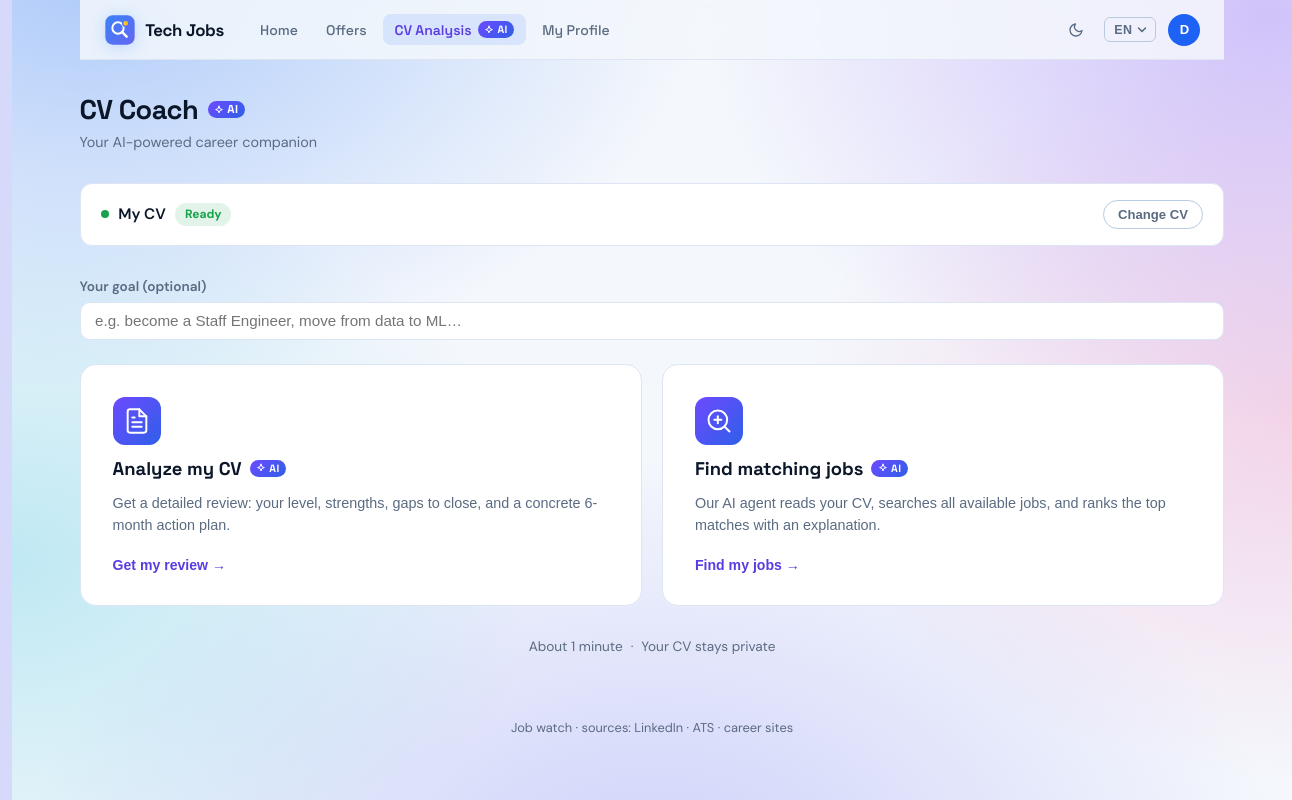
Test: CoachPage (integration) › signed in with a CV › says so when nothing matches, and lets you search again
The image size is (1292, 800).
Check: the text "My CV" is shown, box [118,204,166,224]
Click the button "Find matching jobs" at (719, 421), box [662,364,1224,606]
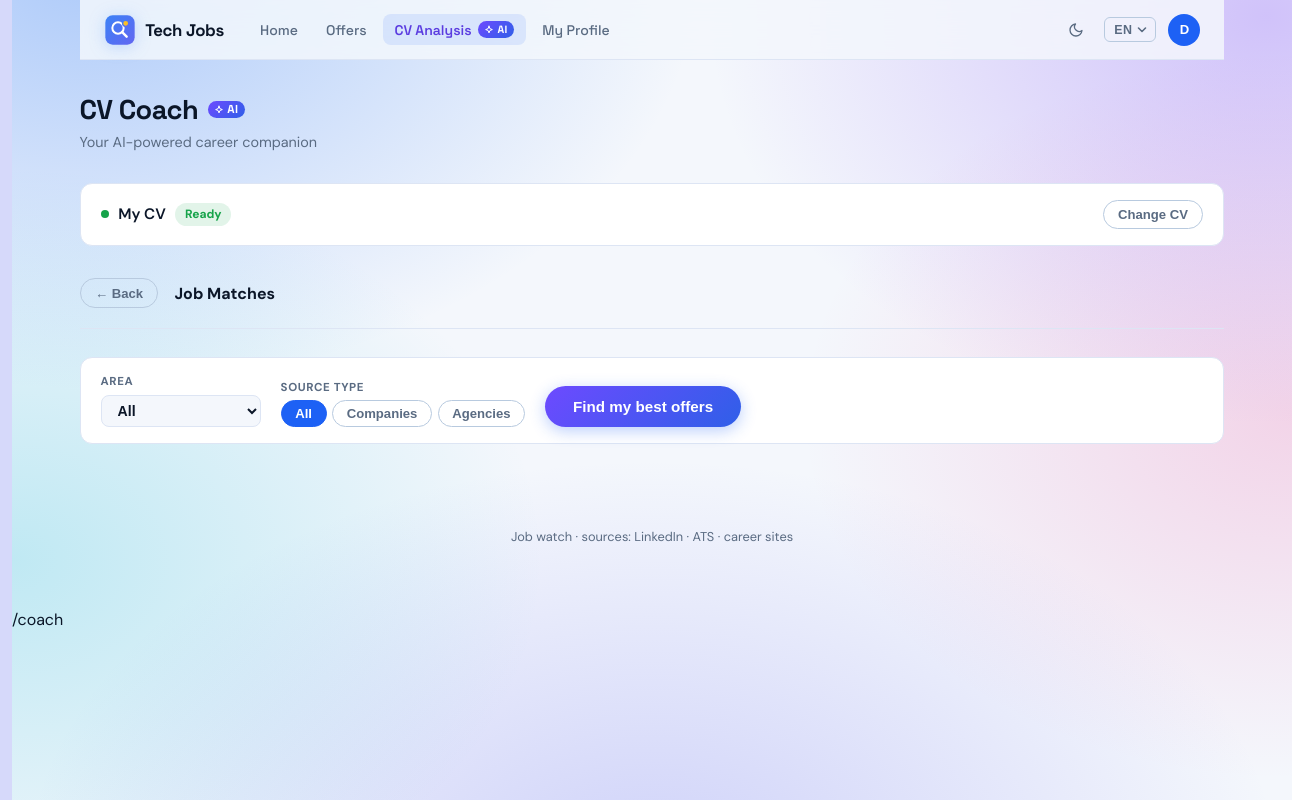
Click the button "Find my best offers" at (643, 406), box [545,386,741,427]
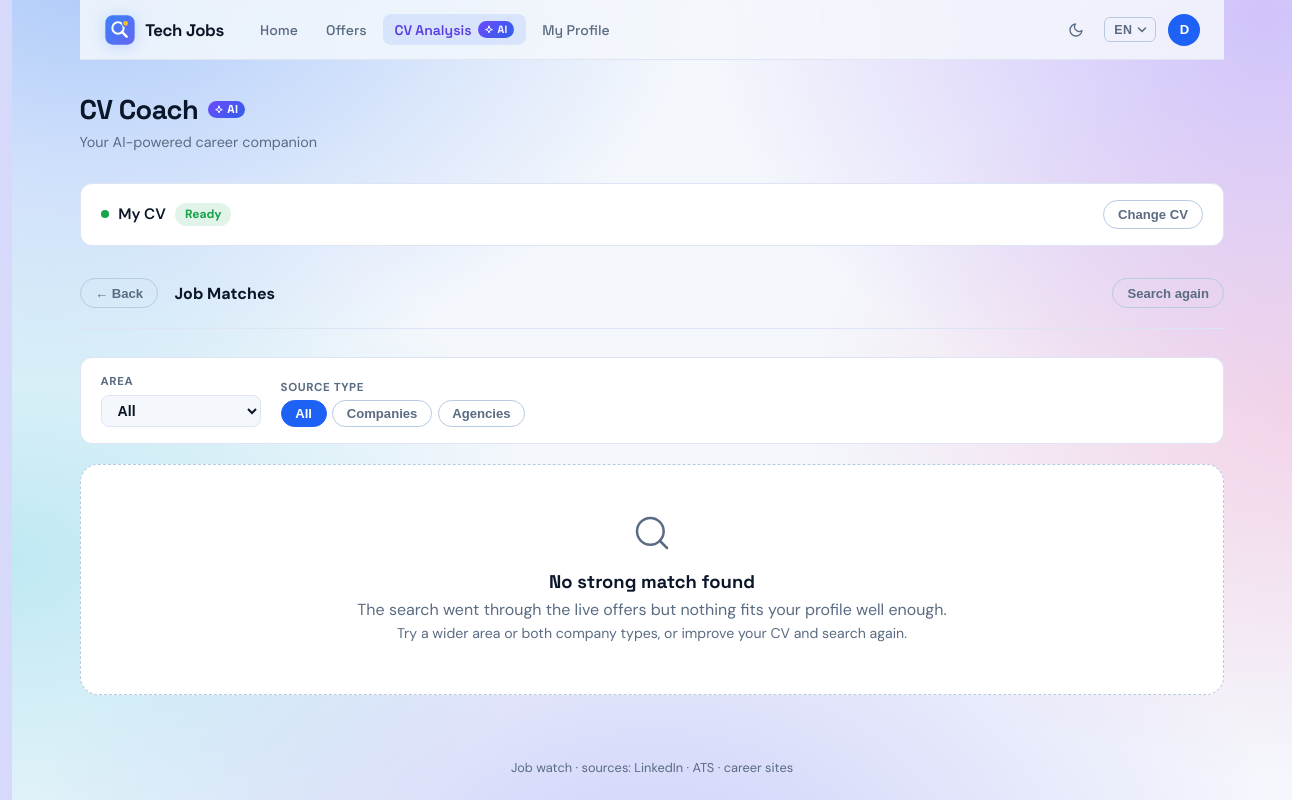
Check: the heading "No strong match found" is shown, box [549,570,755,593]
Check: the button "Search again" is shown, box [1112,278,1224,308]
